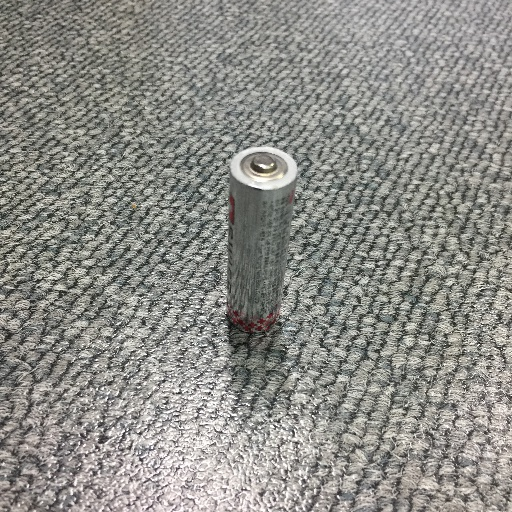Battery_0: (223, 143, 302, 338)
